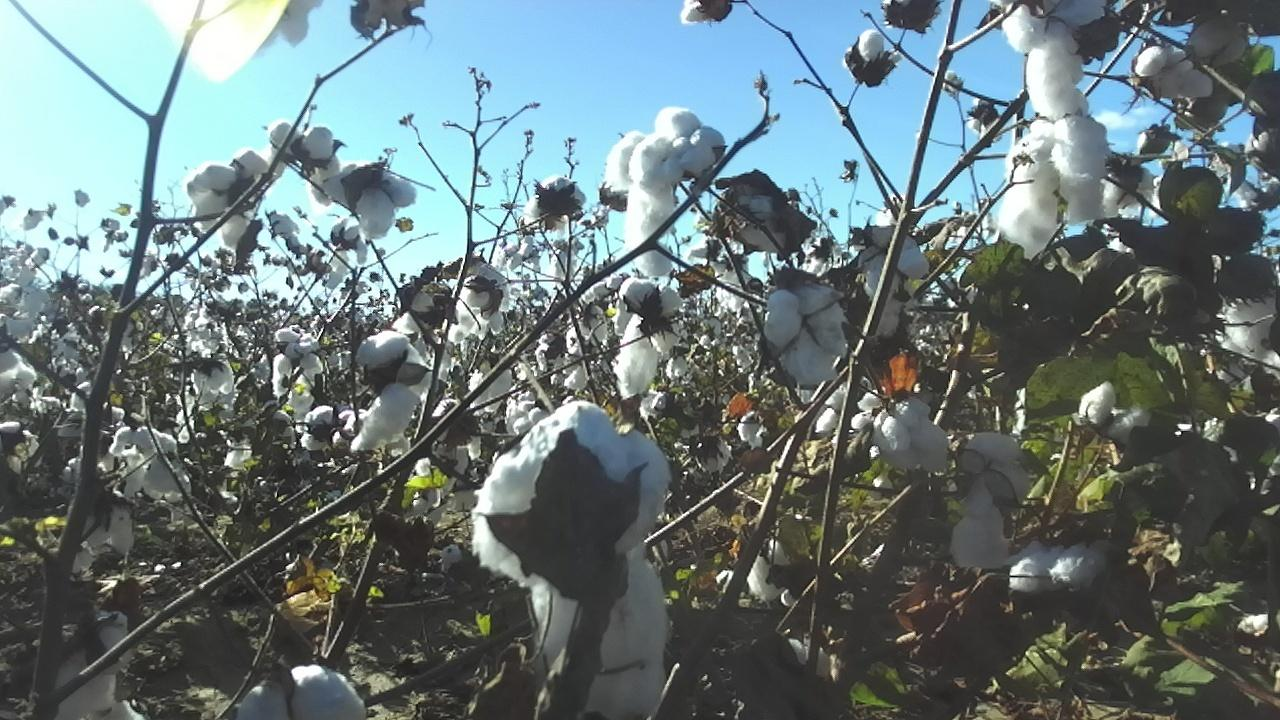cotton_ready: (472, 404, 672, 720), (603, 105, 725, 275), (998, 117, 1107, 255), (1004, 0, 1104, 122), (952, 430, 1030, 573), (349, 329, 430, 454), (762, 279, 849, 389), (52, 610, 125, 720), (858, 224, 927, 337), (616, 284, 682, 402), (325, 162, 420, 241), (187, 150, 267, 239), (236, 667, 365, 720), (1010, 537, 1112, 597), (269, 122, 342, 204), (875, 397, 948, 477), (725, 189, 792, 257), (1077, 384, 1156, 441), (1225, 287, 1280, 366), (1138, 49, 1215, 102), (521, 175, 587, 230), (748, 537, 799, 606), (269, 330, 320, 399), (841, 30, 897, 84), (85, 504, 139, 554), (463, 267, 512, 317), (784, 632, 833, 680), (356, 0, 424, 27), (680, 0, 712, 24)
